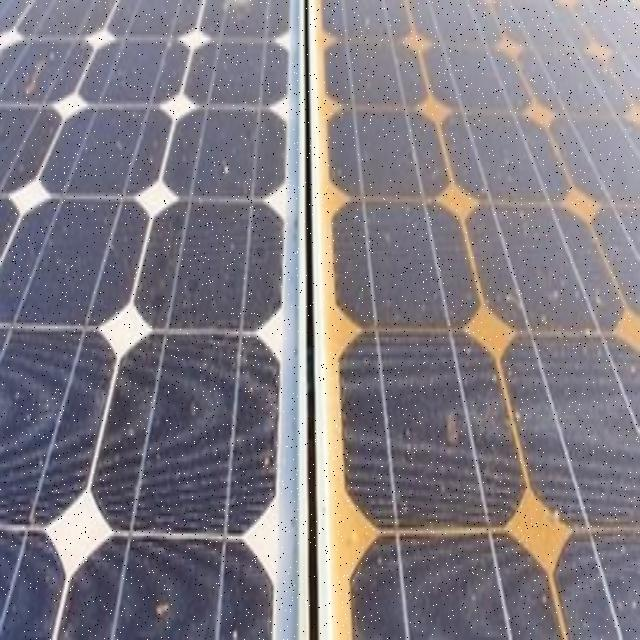electrical damage: (316, 2, 640, 639)
